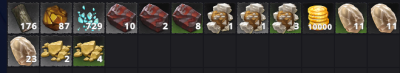ash log: (8, 2, 39, 32)
aurelium ore: (40, 3, 72, 33)
cinnabar mineral: (171, 2, 202, 33), (105, 3, 137, 33), (138, 4, 170, 33)
dolomite mineral: (203, 1, 235, 33), (269, 1, 300, 34), (237, 1, 267, 34)
ethereal dust: (73, 3, 104, 34)
gold: (302, 1, 333, 34)
halite mineral: (7, 34, 40, 66), (368, 2, 399, 35), (335, 2, 366, 34)
sulphur mineral: (72, 35, 104, 66), (41, 34, 71, 66)
